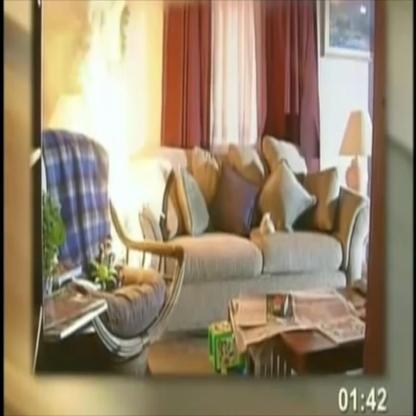fire: (77, 0, 152, 268)
